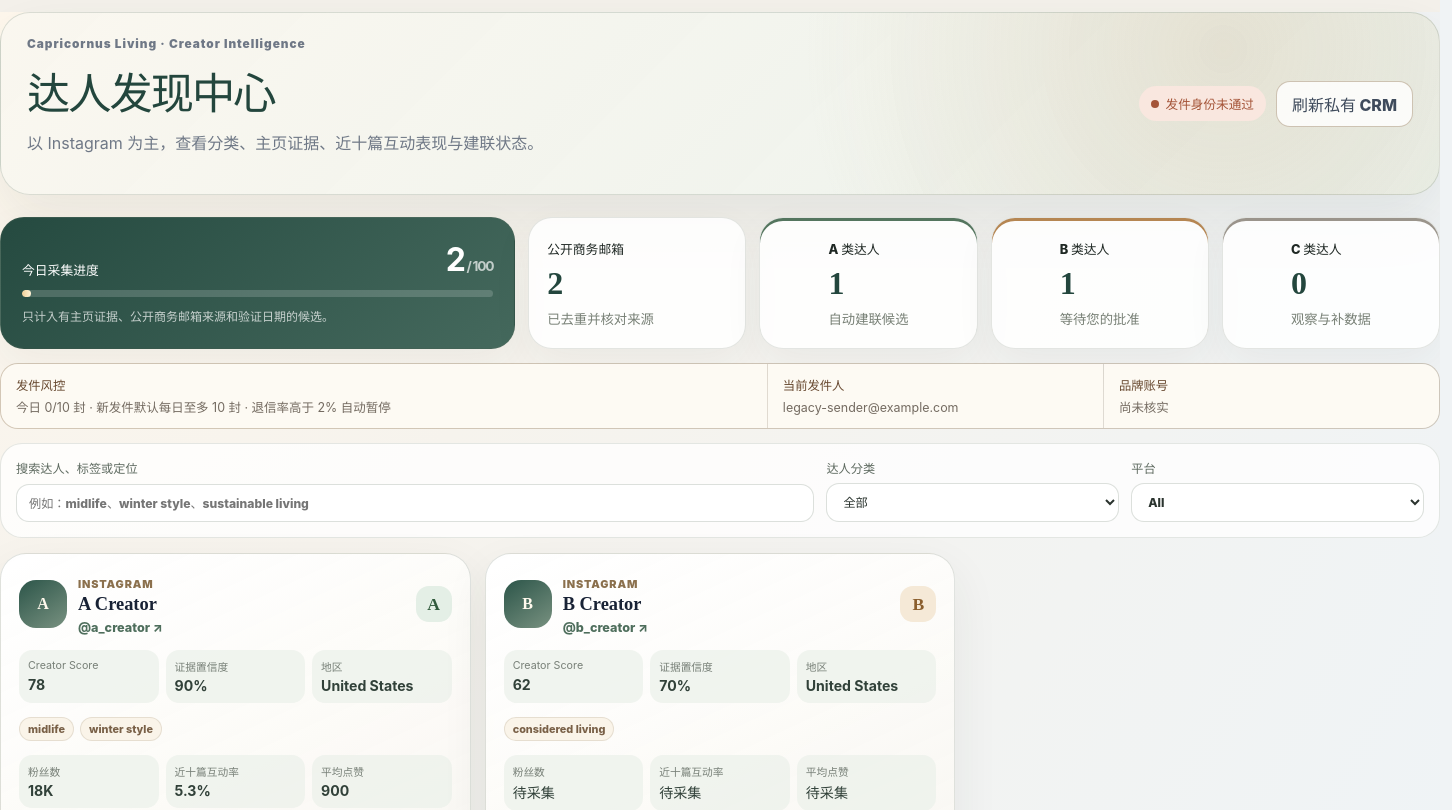
Test: CreatorDiscoveryPage › filters cards by class
Check: the heading "A Creator" is shown, box x1=78 y1=594 x2=157 y2=614
Select "B · 人工选择" in the dropdown labelled "达人分类": (973, 502) x1=826 y1=483 x2=1119 y2=522
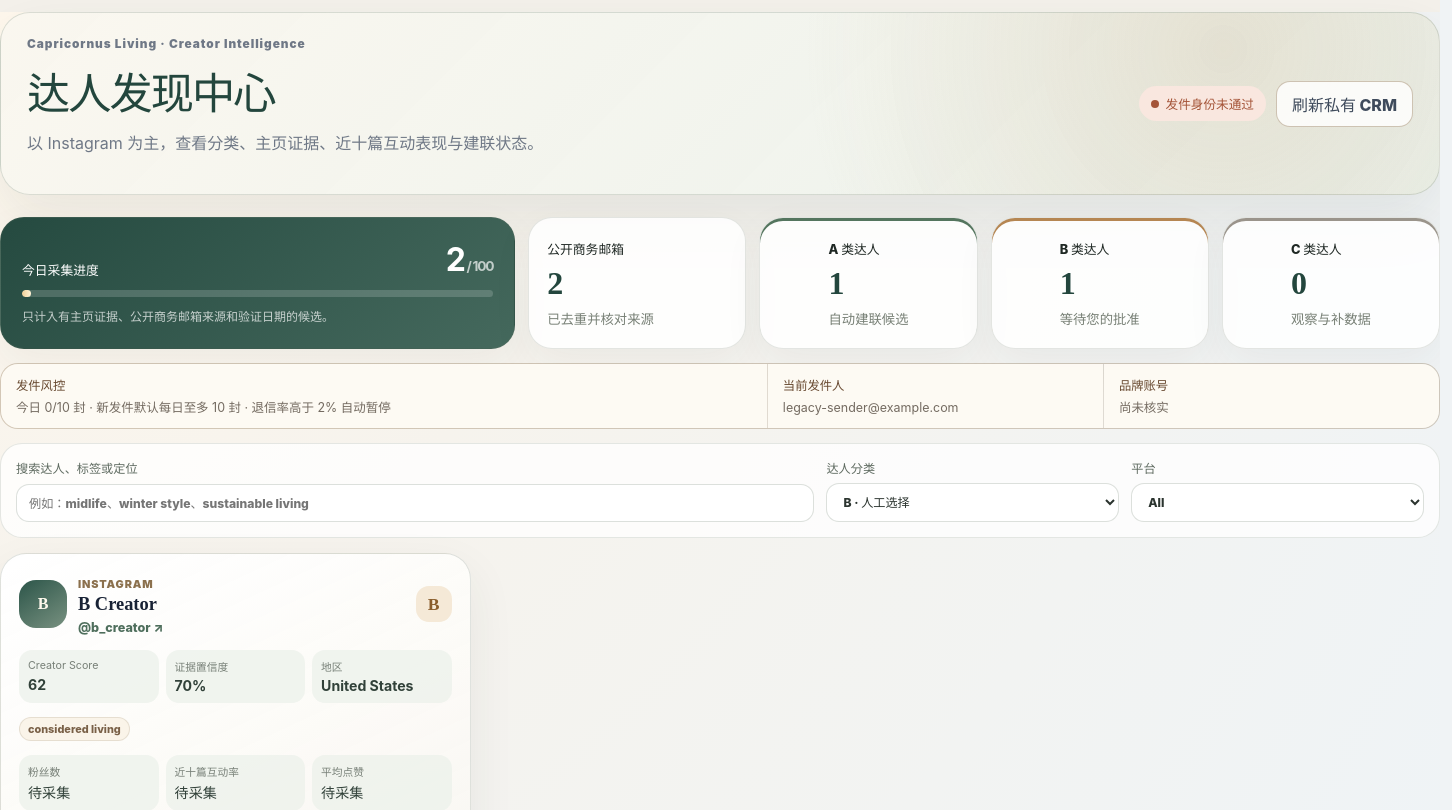
Check: the heading "B Creator" is shown, box x1=78 y1=594 x2=157 y2=614
Check: the heading "A Creator" is gone
